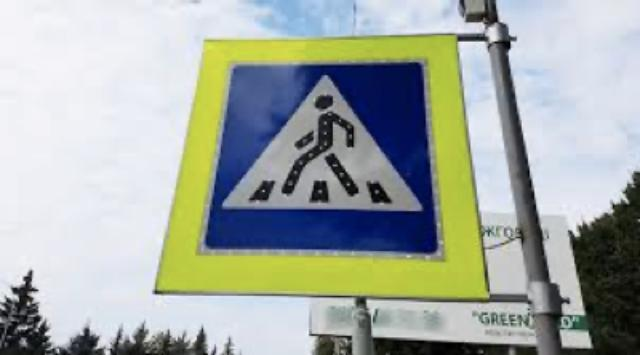crosswalk-sign: (154, 33, 491, 301)
